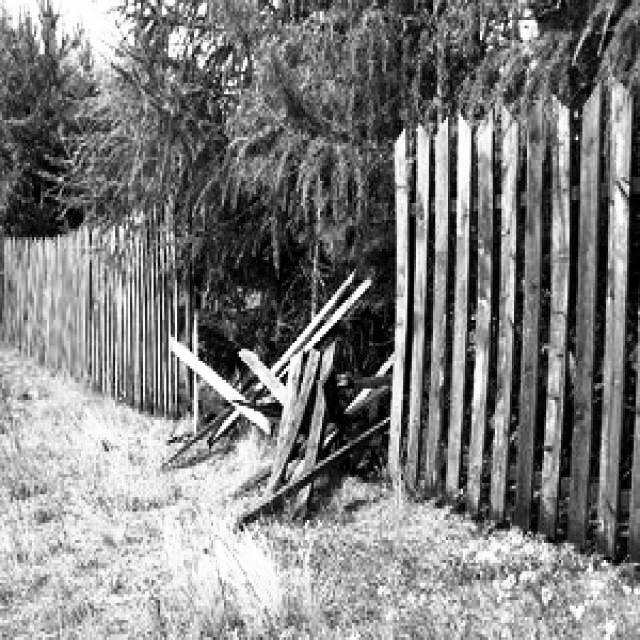anomaly-fence: (120, 131, 457, 490)
